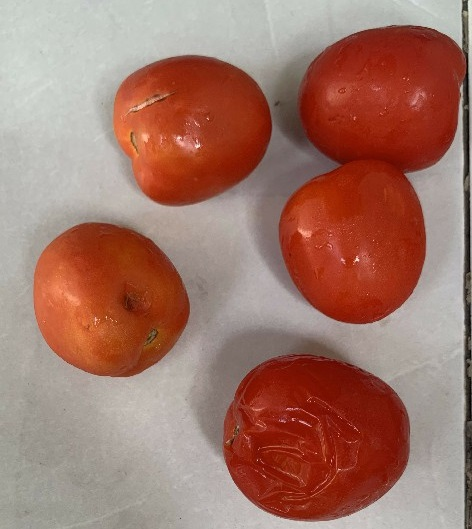NG: (219, 350, 420, 523), (30, 217, 199, 382), (109, 50, 271, 211)
OK: (291, 23, 472, 172), (275, 156, 427, 331)
